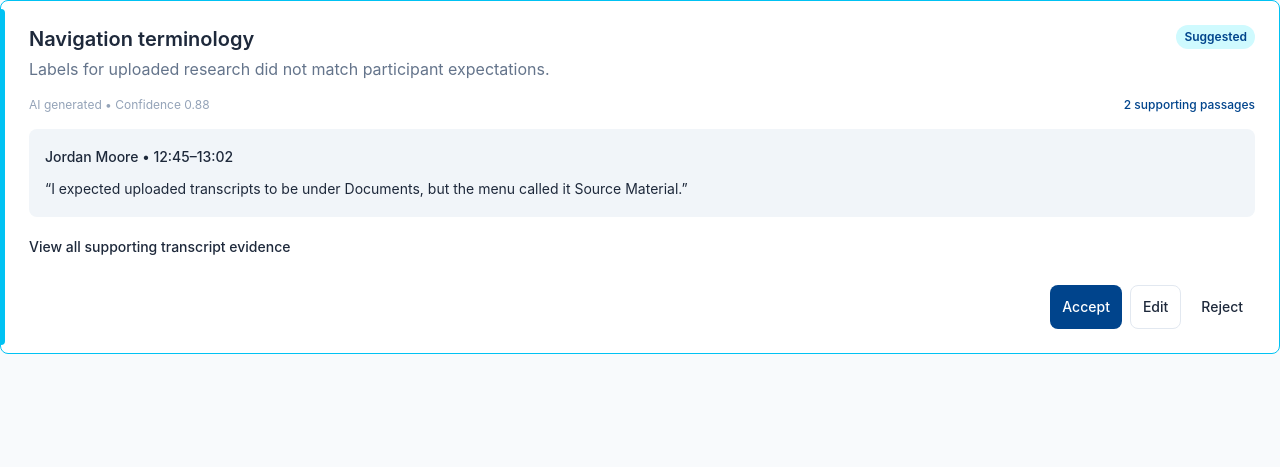
Test: Transcript Coding Research Objects › selects a suggestion and expands every complete supporting passage
The image size is (1280, 467).
Expected: the text "2 supporting passages" is shown, [1124,97,1255,113]
Expected: the text "I kept looking under Documents before I noticed the different label." is not shown
Click the button "Navigation terminology" at (142, 39), box [29,25,1164,81]
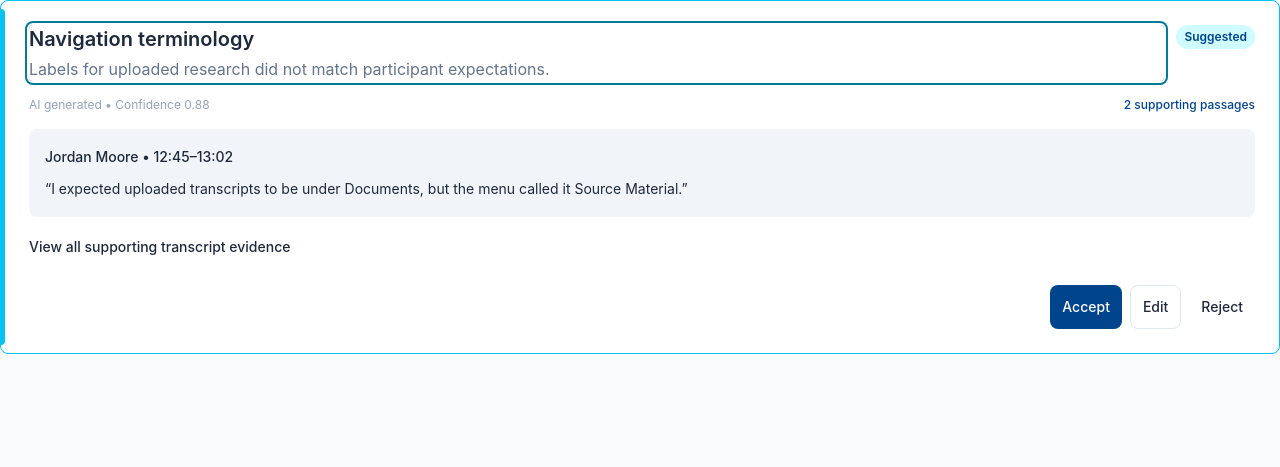
Click the button "View all supporting transcript evidence" at (160, 247), box [29,225,290,269]
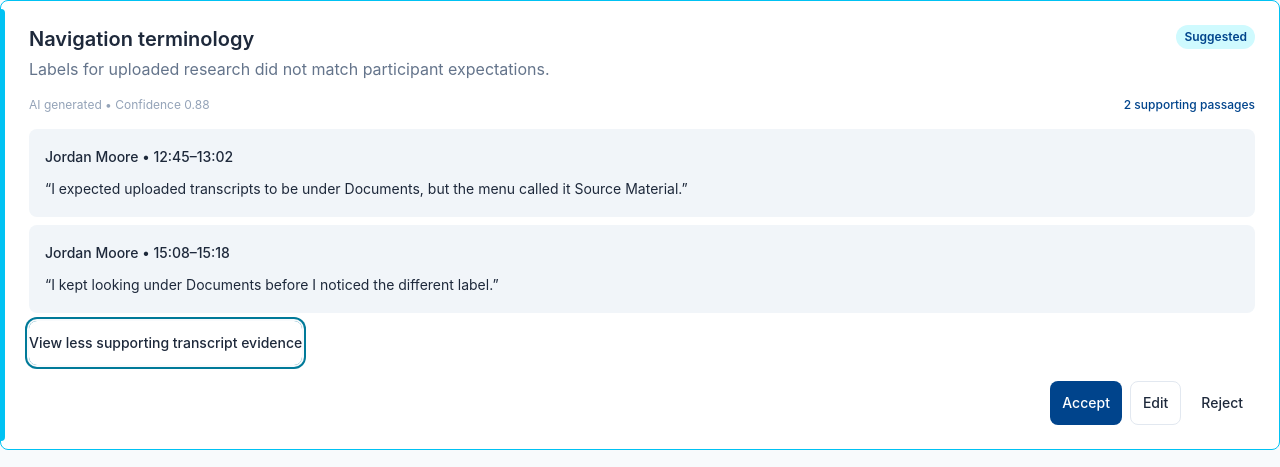
Now the text "I kept looking under Documents" is shown, box [51,276,492,293]
Now the button "View less supporting transcript evidence" is shown, box [29,321,302,365]
